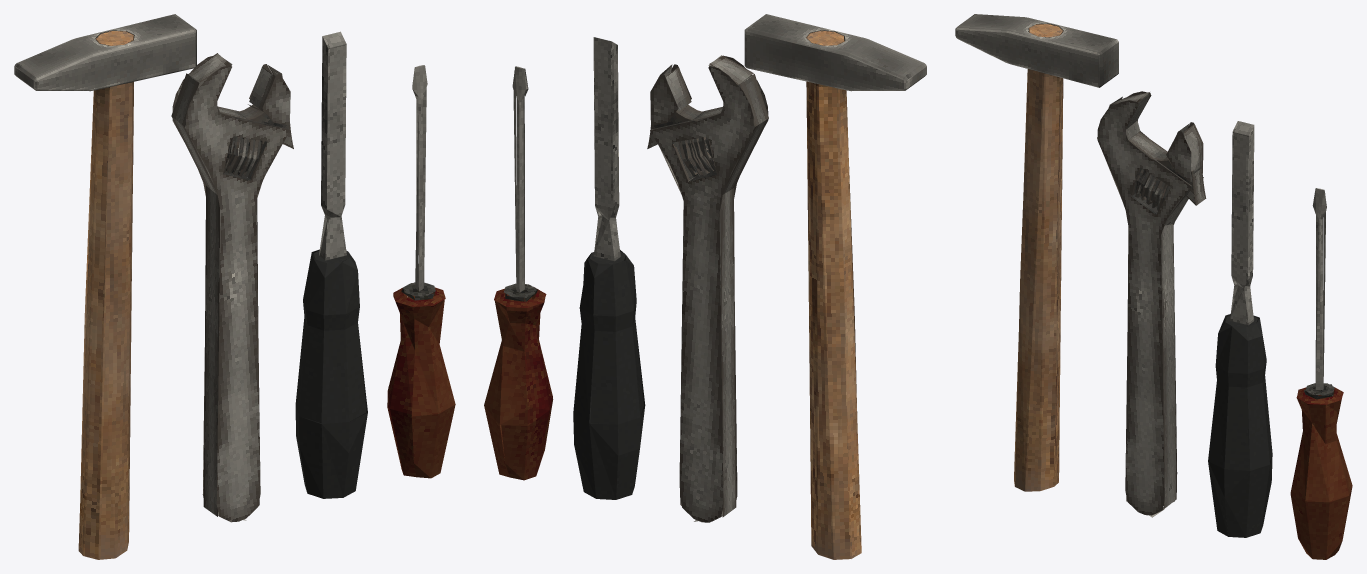
The model's file is hand_tools_a.glb.
The picture shows the model from 3 angles, left to right: view 1: azimuth 30°, elevation 25°; view 2: azimuth 150°, elevation 25°; view 3: azimuth 330°, elevation 25°; orthographic projection. The views are drawn at different scales.
Visible parts, largest first — view 1: hand_tools_a; view 2: hand_tools_a; view 3: hand_tools_a.
Part boxes in pixels (x1=…): hand_tools_a: x1=14, y1=14, x2=455, y2=559; hand_tools_a: x1=484, y1=14, x2=926, y2=559; hand_tools_a: x1=955, y1=14, x2=1352, y2=559.
Size of the model in its own units: 0.2903 by 0.3296 by 0.0437.
Materials: 1 (1 with a texture image).
